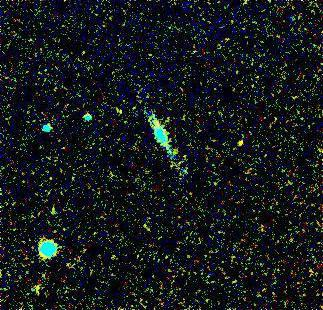star: (225, 127, 255, 157)
